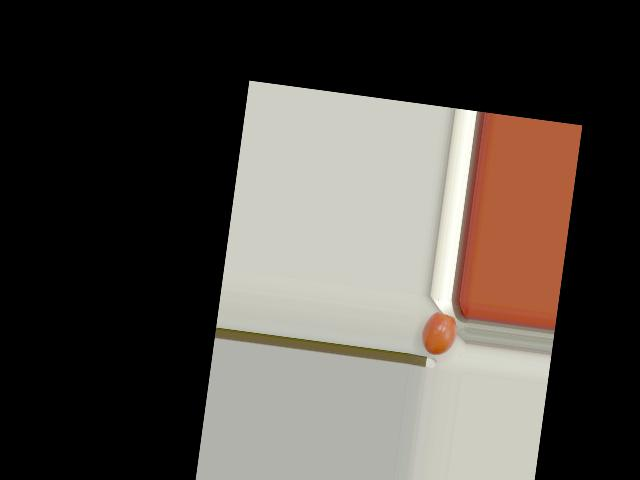tomato: (419, 310, 459, 357)
